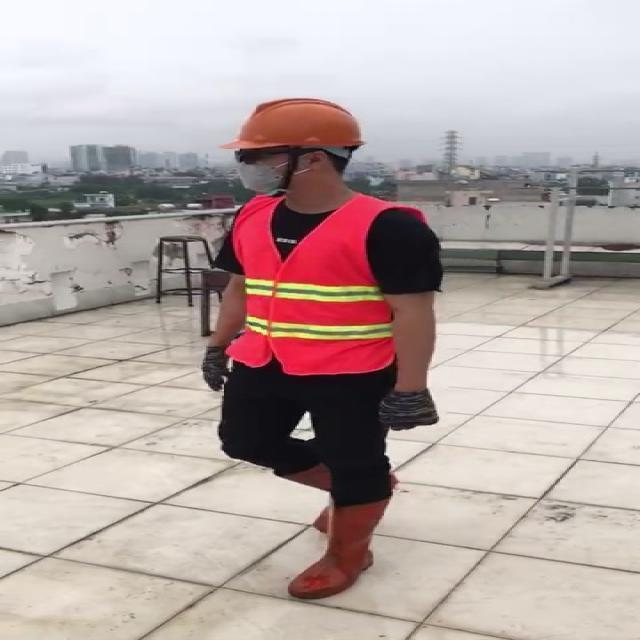gloves: (376, 387, 442, 433), (199, 345, 231, 393)
goggles: (233, 146, 289, 164)
helmet: (220, 92, 374, 158)
safety_vest: (227, 192, 394, 374)
